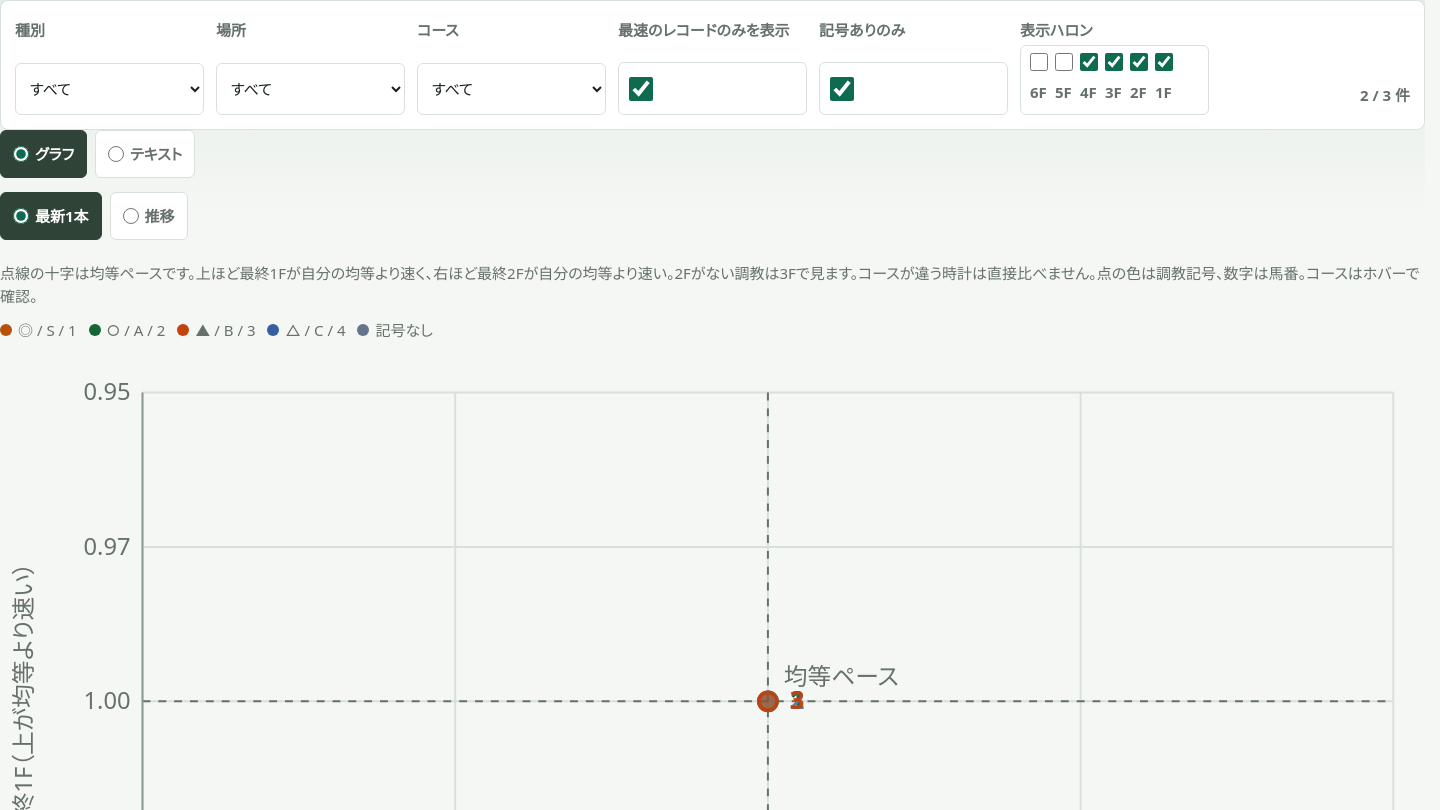
training table › shows only rows with premium grade by default including undated placeholders
Click the radio button labelled "テキスト": (116, 154) left=108, top=146, right=124, bottom=162
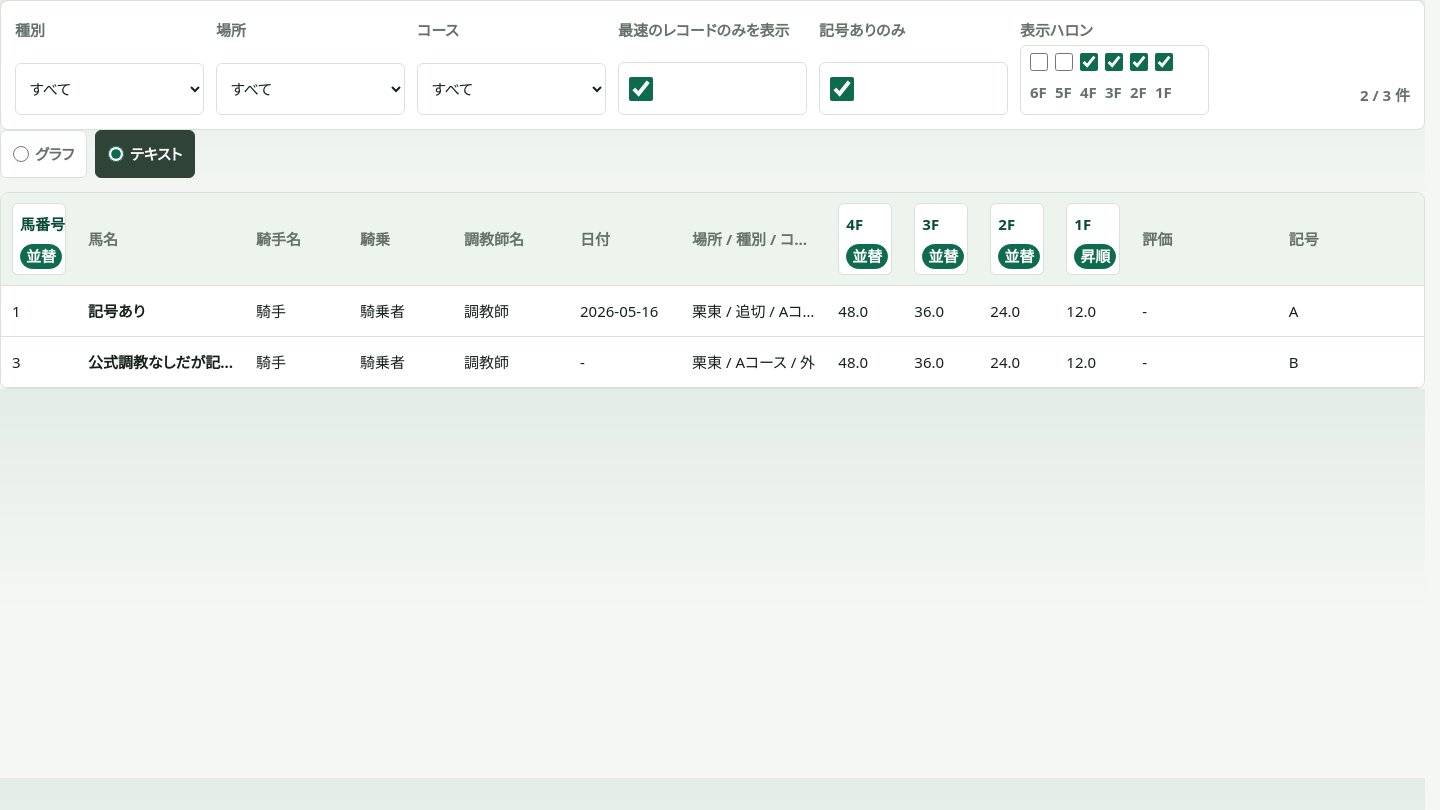
Check: the text "記号あり" is shown, box left=77, top=286, right=245, bottom=336
Check: the text "公式調教なしだが記号あり" is shown, box left=77, top=336, right=245, bottom=388
Check: the list item "記号なし" is gone
Click the checkbox named "記号ありのみを表示": (842, 88) left=830, top=76, right=854, bottom=100
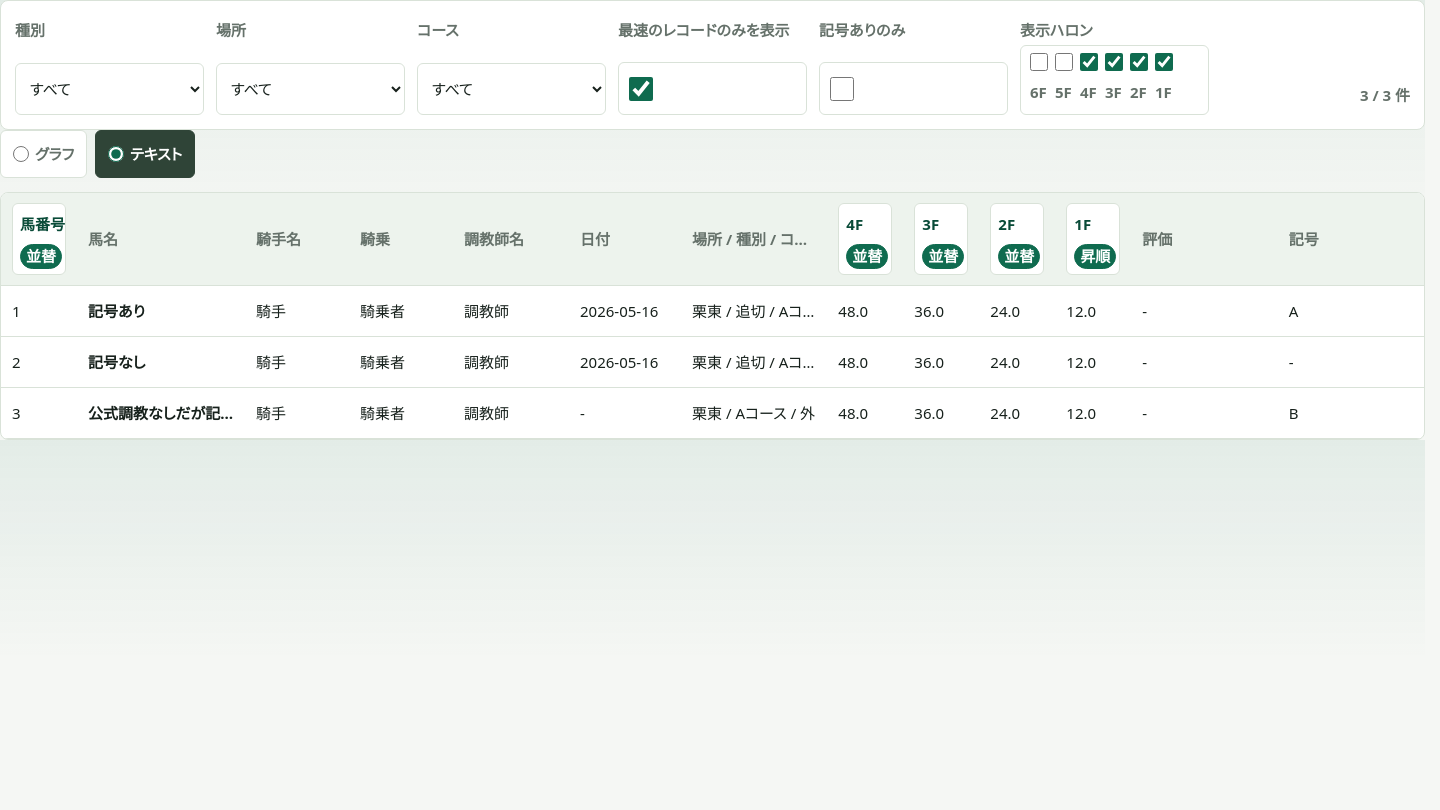
Check: the text "記号なし" is shown, box left=77, top=336, right=245, bottom=388
Check: the text "3 / 3 件" is shown, box left=1360, top=85, right=1410, bottom=105
